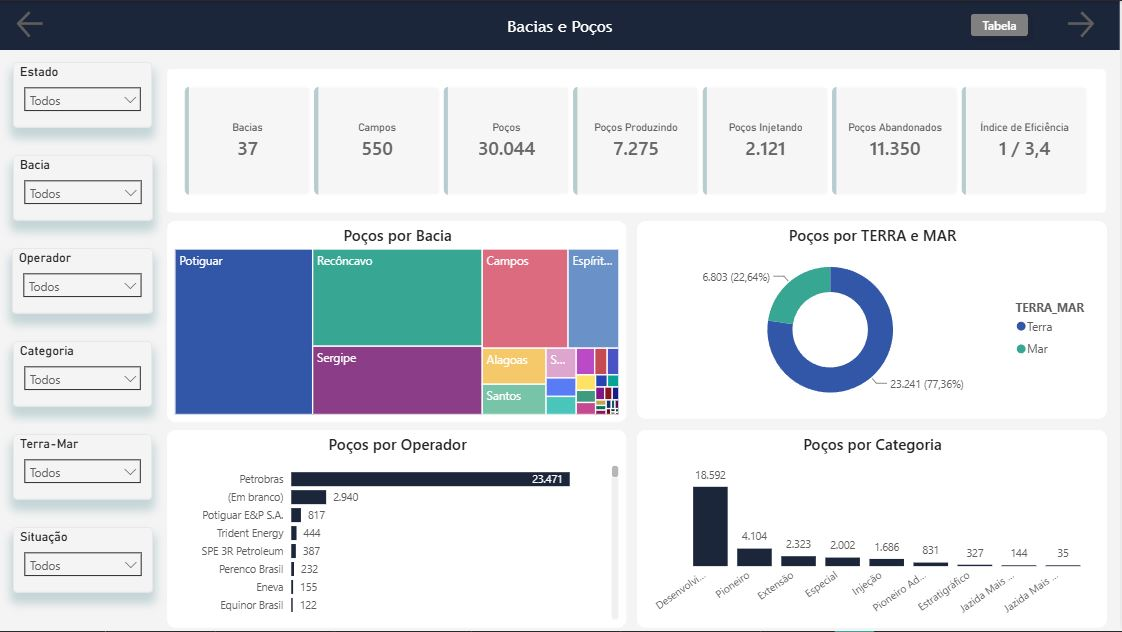

The dashboard page shown, as its layout file describes it:
{"tool":"powerbi","page":{"name":"Bacias e Poços","canvas":[1280,720],"ordinal":1},"visuals":[{"type":"slicer","title":"Categoria","fields":{"Values":["fato_pocos.CATEGORIA"]},"box":[14.6,388.4,159.5,75.2],"z":0},{"type":"slicer","title":"Estado","fields":{"Values":["fato_pocos.ESTADO"]},"box":[14.6,69.5,159.5,75.2],"z":1000},{"type":"slicer","title":"Terra-Mar","fields":{"Values":["fato_pocos.TERRA_MAR"]},"box":[14.6,494.8,159.5,75.2],"z":2000},{"type":"cardVisual","fields":{"Data":["Medidas.Contagem Bacias","Medidas.Total Campos","Medidas.Contagem Pocos","Medidas.Poços Produzindo","Medidas.Poços Injetando","Medidas.Poços Abandonados","medidas.Índice de Eficiência"]},"box":[191.4,77.5,1073.2,164.1],"z":3000},{"type":"treemap","title":"Poços por Bacia","fields":{"Group":["fato_pocos.BACIA"],"Values":["medidas.Total Poços"]},"box":[191.4,251.8,525.2,230.1],"z":4000},{"type":"clusteredBarChart","title":"Poços por Operador","fields":{"Category":["fato_pocos.OPERADOR"],"Y":["Medidas.Total Poços"]},"box":[191.4,489.9,525.2,225.6],"z":5000},{"type":"donutChart","title":"Poços por TERRA e MAR","fields":{"Category":["fato_pocos.TERRA_MAR"],"Y":["Medidas.Total Poços"]},"box":[728,251.8,536.6,225.6],"z":6000},{"type":"clusteredColumnChart","title":"Poços por Categoria","fields":{"Category":["fato_pocos.CATEGORIA"],"Y":["Medidas.Total Poços"]},"box":[728,489.9,536.6,225.6],"z":7000},{"type":"slicer","title":"Operador","fields":{"Values":["fato_pocos.OPERADOR"]},"box":[14,282,160.6,75.2],"z":8000},{"type":"slicer","title":"Situação","fields":{"Values":["fato_pocos.SITUACAO"]},"box":[14.3,601.2,160,75],"z":9000},{"type":"slicer","title":"Bacia","fields":{"Values":["fato_pocos.BACIA"]},"box":[14.3,175.9,160,75],"z":10000},{"type":"shape","box":[0,0,1279.7,56.4],"z":11000},{"type":"actionButton","box":[1100.3,6,83.2,43.4],"z":12000},{"type":"actionButton","box":[14.5,7.2,56.7,39.8],"z":13000},{"type":"actionButton","box":[1214.9,7.2,49.5,39.8],"z":14000}]}

Visuals, with their boxes in screenshot pixels (x1, y1, x2, y2), scaled from the page's 1280x720 canvas onto the 1122x632 screenshot:
"Categoria" slicer: (left=13, top=341, right=153, bottom=407)
"Estado" slicer: (left=13, top=61, right=153, bottom=127)
"Terra-Mar" slicer: (left=13, top=434, right=153, bottom=500)
cardVisual - Medidas.Contagem Bacias x Medidas.Total Campos: (left=168, top=68, right=1109, bottom=212)
"Poços por Bacia" treemap: (left=168, top=221, right=628, bottom=423)
"Poços por Operador" clusteredBarChart: (left=168, top=430, right=628, bottom=628)
"Poços por TERRA e MAR" donutChart: (left=638, top=221, right=1109, bottom=419)
"Poços por Categoria" clusteredColumnChart: (left=638, top=430, right=1109, bottom=628)
"Operador" slicer: (left=12, top=248, right=153, bottom=314)
"Situação" slicer: (left=13, top=528, right=153, bottom=594)
"Bacia" slicer: (left=13, top=154, right=153, bottom=220)
shape: (left=0, top=0, right=1121, bottom=50)
actionButton: (left=964, top=5, right=1037, bottom=43)
actionButton: (left=13, top=6, right=62, bottom=41)
actionButton: (left=1065, top=6, right=1108, bottom=41)
